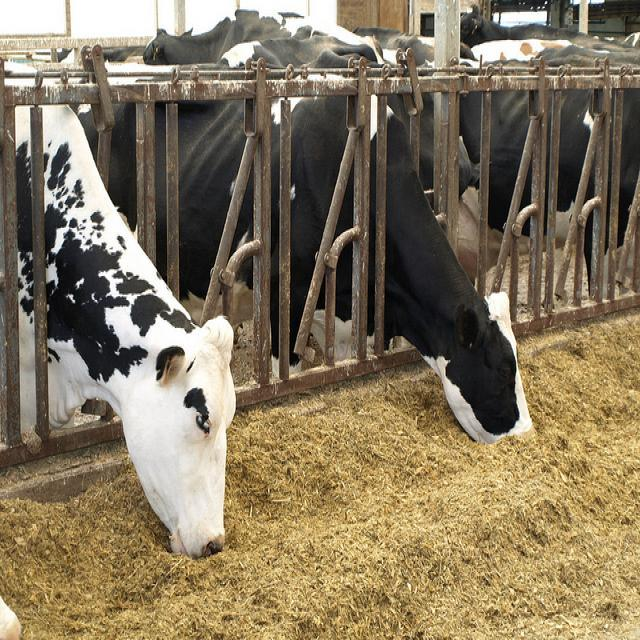cow: (123, 93, 531, 444), (18, 112, 235, 555), (459, 44, 639, 245), (458, 2, 585, 46), (214, 11, 310, 63), (217, 35, 377, 64), (142, 16, 231, 63), (311, 18, 386, 66), (469, 36, 580, 64), (350, 24, 418, 49), (401, 33, 434, 68), (620, 29, 639, 47)
